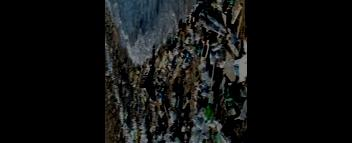Plastic: (133, 115, 158, 142), (208, 42, 226, 55)
